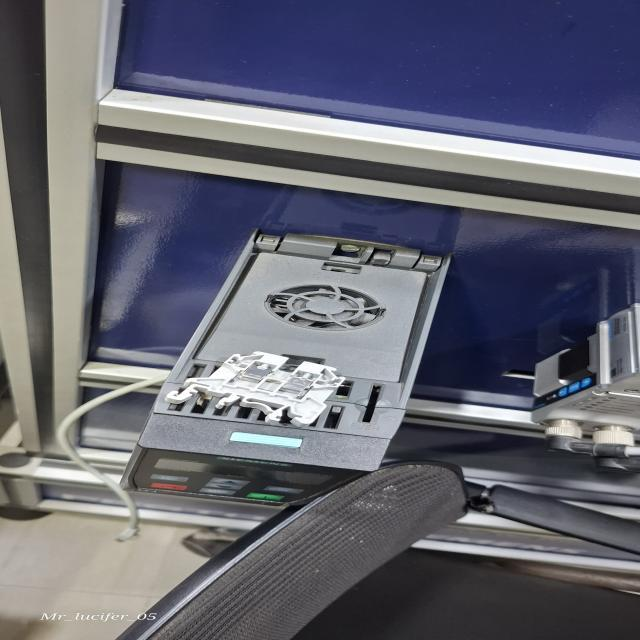Pass: (162, 351, 344, 426)
